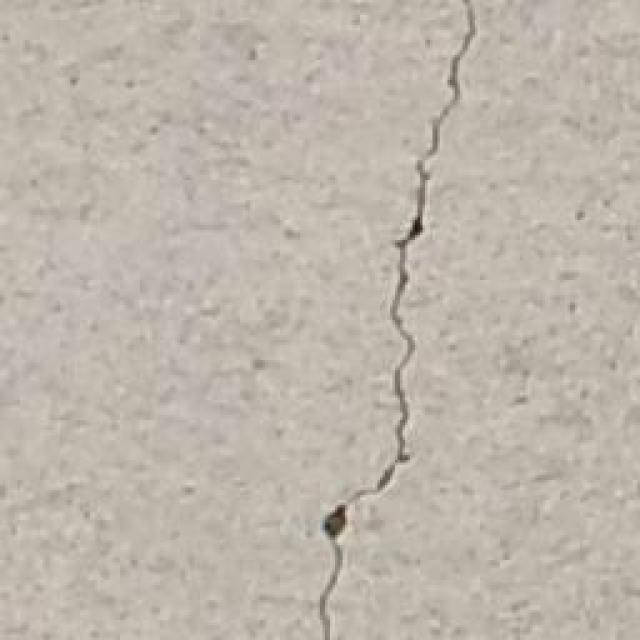concrete-crack: (320, 0, 475, 640)
